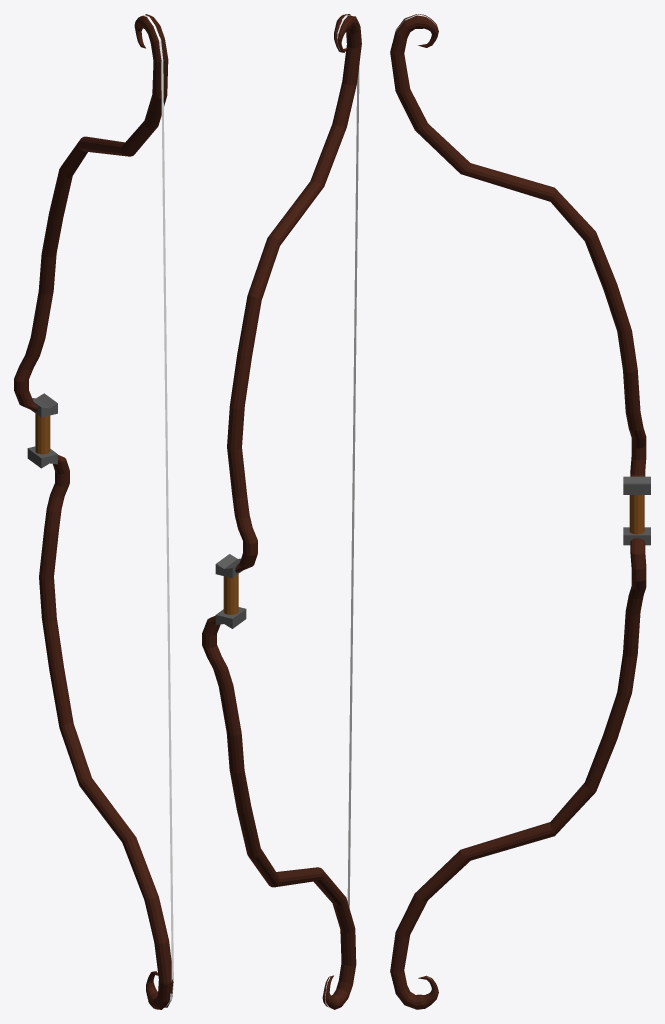
The model's file is Bow.fbx.
3 renders of one model, left to right at view 1: azimuth 30°, elevation 25°; view 2: azimuth 150°, elevation 25°; view 3: azimuth 270°, elevation 25°, orthographic.
Visible parts, largest first — view 1: Bow; view 2: Bow; view 3: Bow.
Boxes of the visible parts, x1,y1,x2,y2 form: Bow: (14,14,173,1009); Bow: (202,14,361,1009); Bow: (390,14,650,1009).
Bounding box in the file's own units: 24.65 × 434 × 104.
